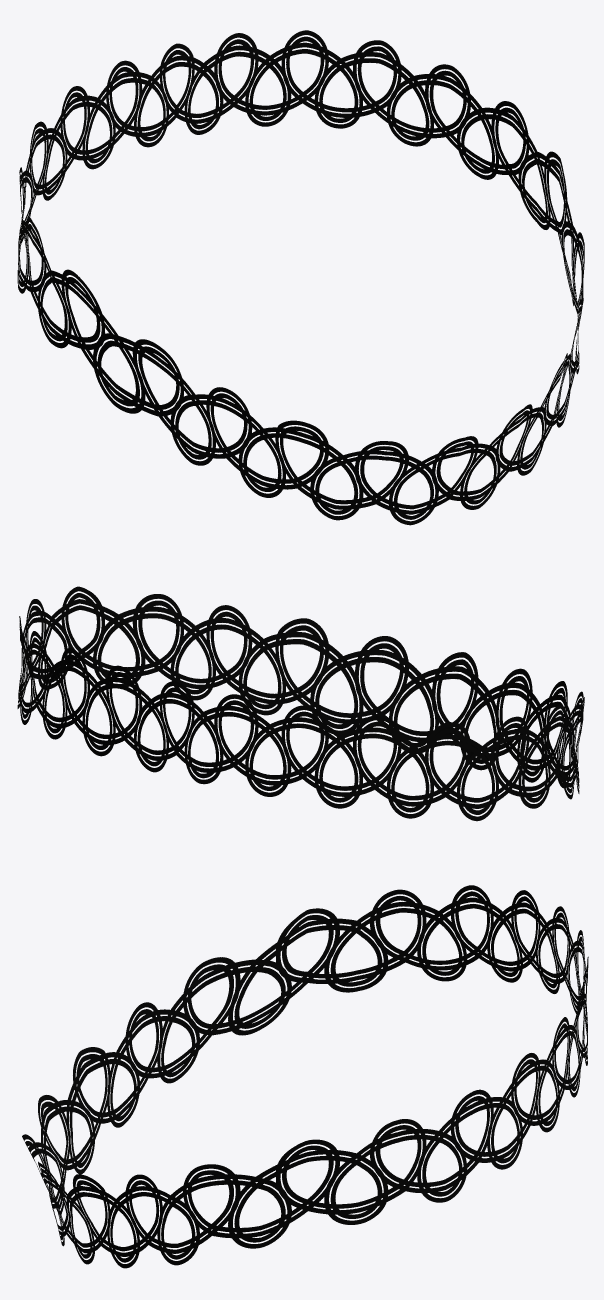
Rendered from choker.obj.
3 renders of one model, top to bottom at view 1: azimuth 30°, elevation 25°; view 2: azimuth 150°, elevation 25°; view 3: azimuth 270°, elevation 25°, orthographic.
Visible parts, largest first — view 1: Female_Head.001; view 2: Female_Head.001; view 3: Female_Head.001.
Boxes of the visible parts, <box> form: Female_Head.001: <box>17,30,584,525</box>; Female_Head.001: <box>17,586,584,821</box>; Female_Head.001: <box>22,885,588,1268</box>.
Size of the model in its own units: 0.097 by 0.0588 by 0.1004.
Materials: 1 (1 with a texture image).
